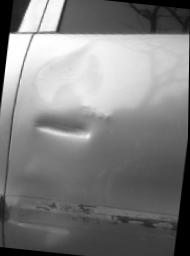Door: (0, 12, 190, 256)
